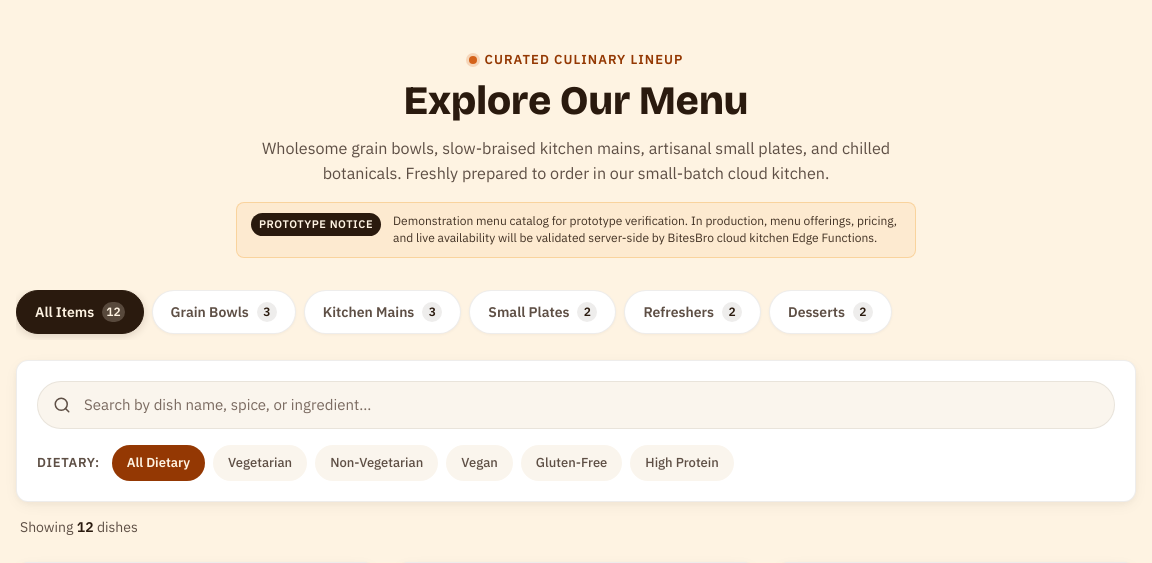
Test: Customer Menu Experience (Task 03) › MenuSection Integration › clears search input when clear button is clicked
This screenshot has width=1152, height=563.
Type "biryani" into the search field. click: (576, 405)
box: [37,381,1115,429]
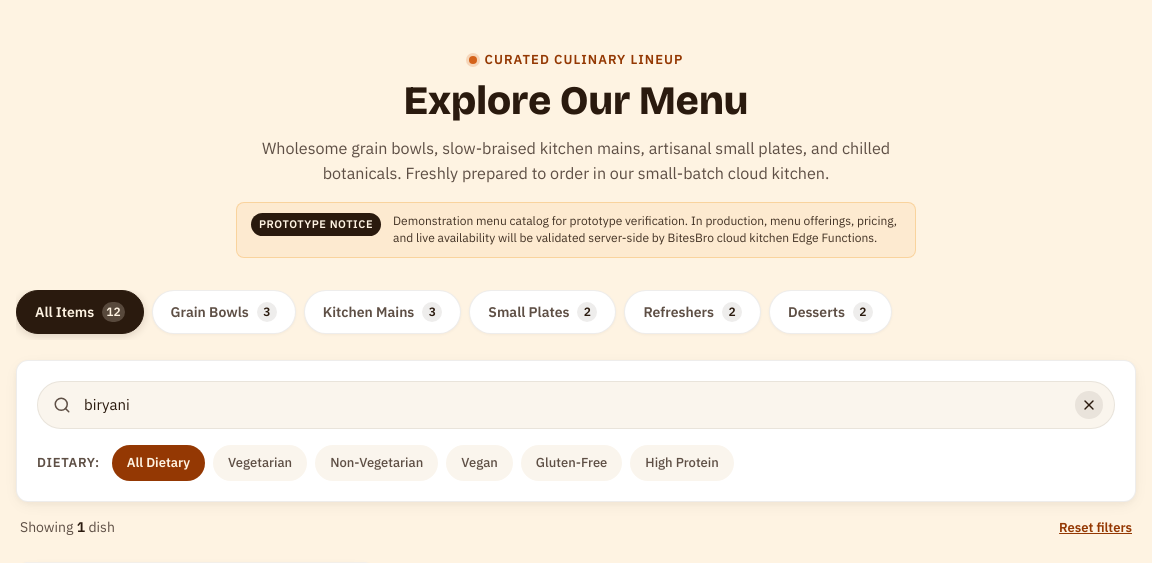
Expected: the button named "Clear search input" is shown
Click the button named "Clear search input". click: click(1089, 405)
box: [1075,391,1103,419]
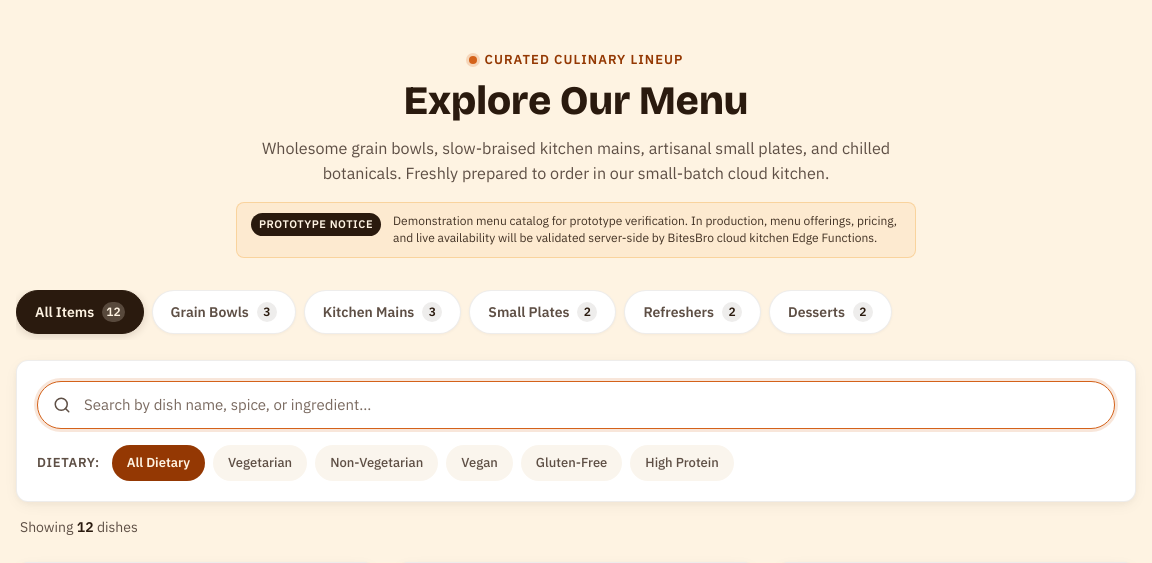
Expected: the search field is empty, [37,381,1115,429]
Expected: the text "Showing 12 dishes" is shown, [20,517,138,538]
